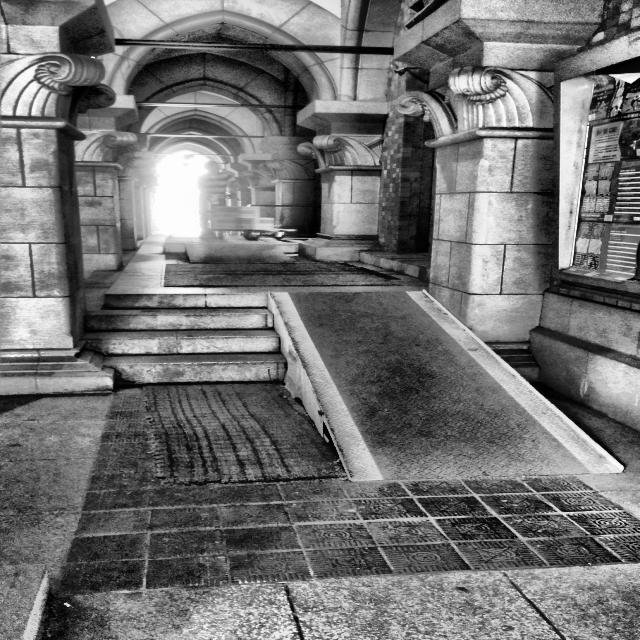escada: (79, 293, 288, 385)
